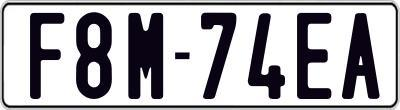4: (248, 13, 285, 103)
7: (201, 13, 240, 104)
8: (73, 12, 115, 103)
A: (340, 10, 377, 98)
E: (296, 12, 336, 104)
F: (28, 11, 63, 98)
M: (127, 12, 165, 103)
